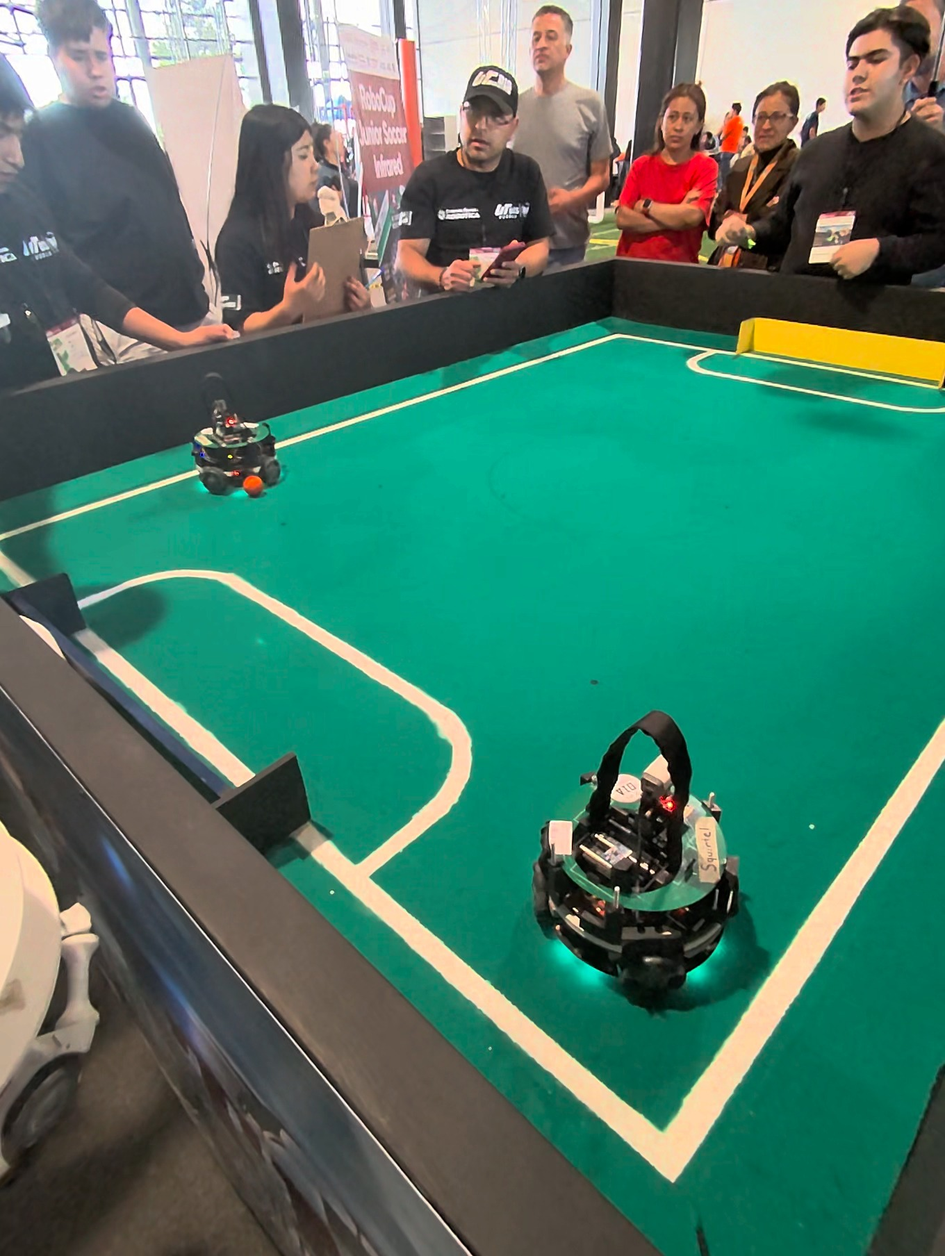Robot: (521, 685, 756, 1028), (196, 388, 290, 499)
pelota: (243, 477, 264, 499)
